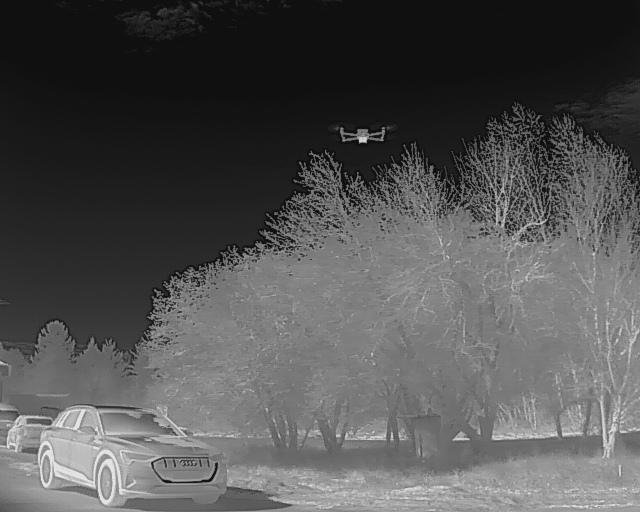drone: (326, 113, 396, 152)
